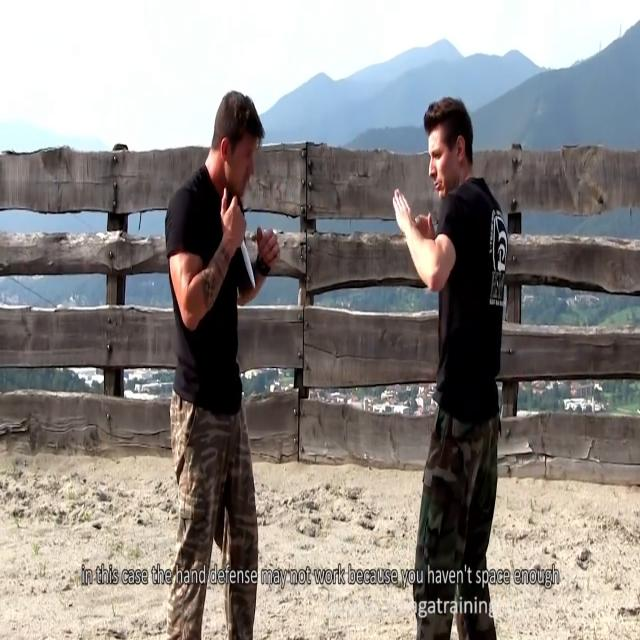knife: (238, 233, 260, 291)
